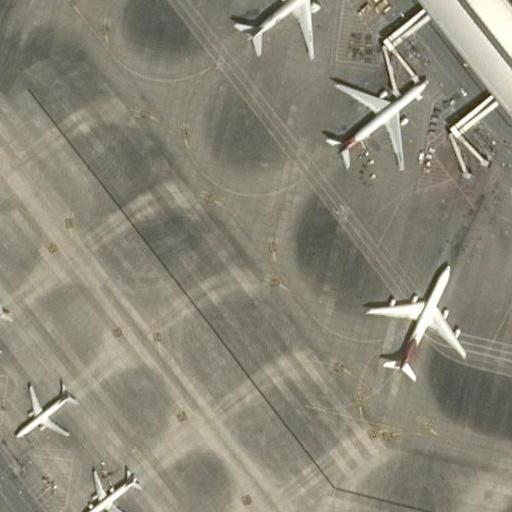Aircraft: (360, 258, 469, 381), (319, 74, 430, 169), (224, 0, 336, 58), (11, 382, 79, 444), (77, 466, 145, 511), (0, 301, 11, 363)
